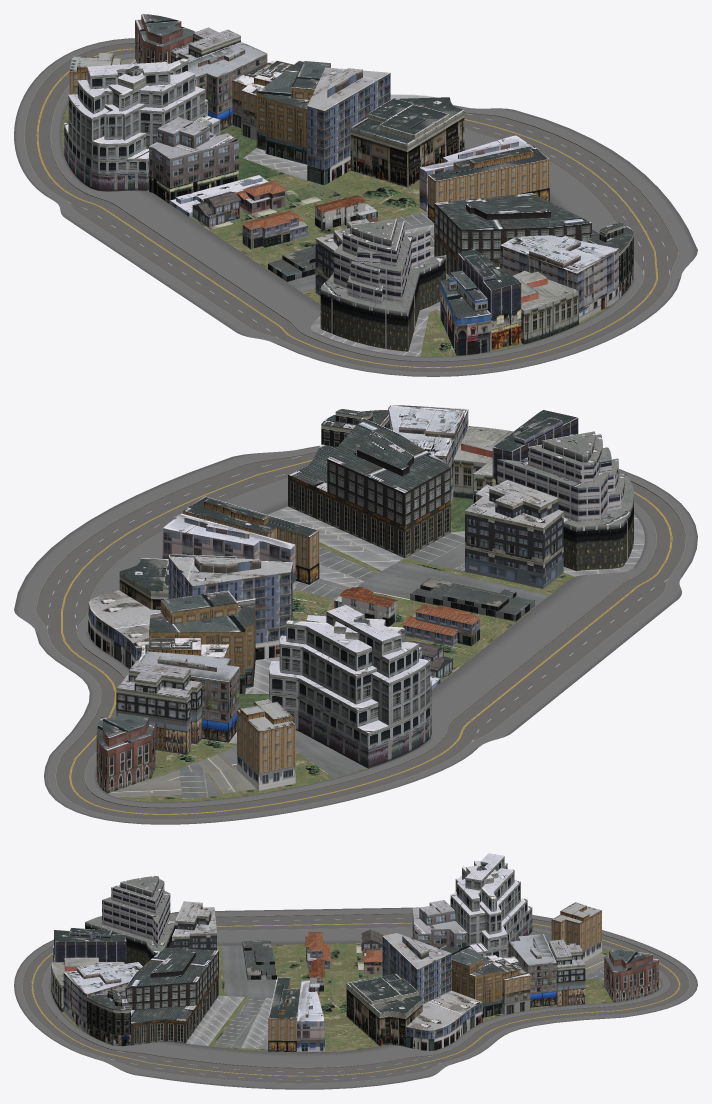
The model's file is Racing Circuit.FBX.
3 renders of one model, top to bottom at view 1: azimuth 30°, elevation 25°; view 2: azimuth 150°, elevation 25°; view 3: azimuth 270°, elevation 25°, orthographic. The views are drawn at different scales.
Visible parts, largest first — view 1: CE_; view 2: CE_; view 3: CE_.
Part boxes in pixels (bbox=[...]): CE_: bbox=[14, 14, 697, 376]; CE_: bbox=[14, 405, 697, 824]; CE_: bbox=[14, 853, 697, 1089].
Bounding box in the file's own units: 1.52 × 0.3078 × 2.41.
Materials: 99 (99 with a texture image).
